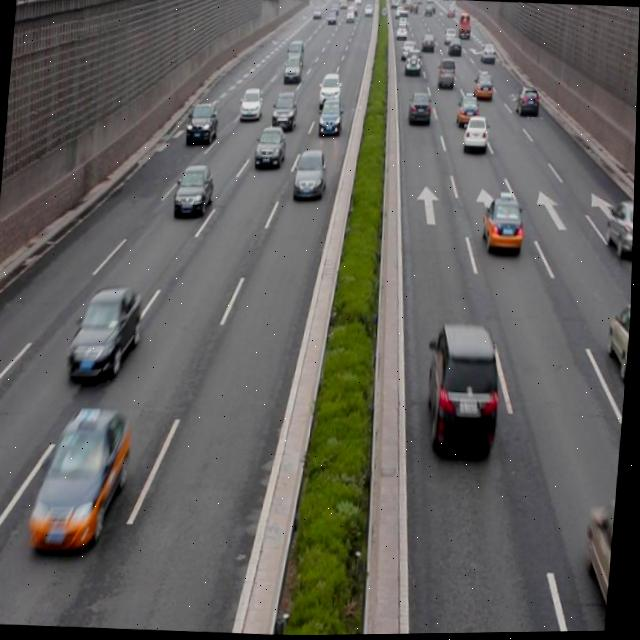car: (34, 409, 136, 555), (422, 325, 505, 463), (68, 286, 144, 386), (583, 491, 619, 632), (479, 194, 524, 257), (606, 299, 633, 388), (174, 164, 216, 220), (603, 198, 635, 263), (294, 150, 327, 200), (187, 98, 219, 146), (254, 127, 289, 169), (271, 90, 298, 133), (316, 99, 344, 139), (462, 116, 487, 155), (407, 90, 432, 125), (240, 89, 264, 125), (516, 87, 540, 117), (456, 97, 479, 125)
